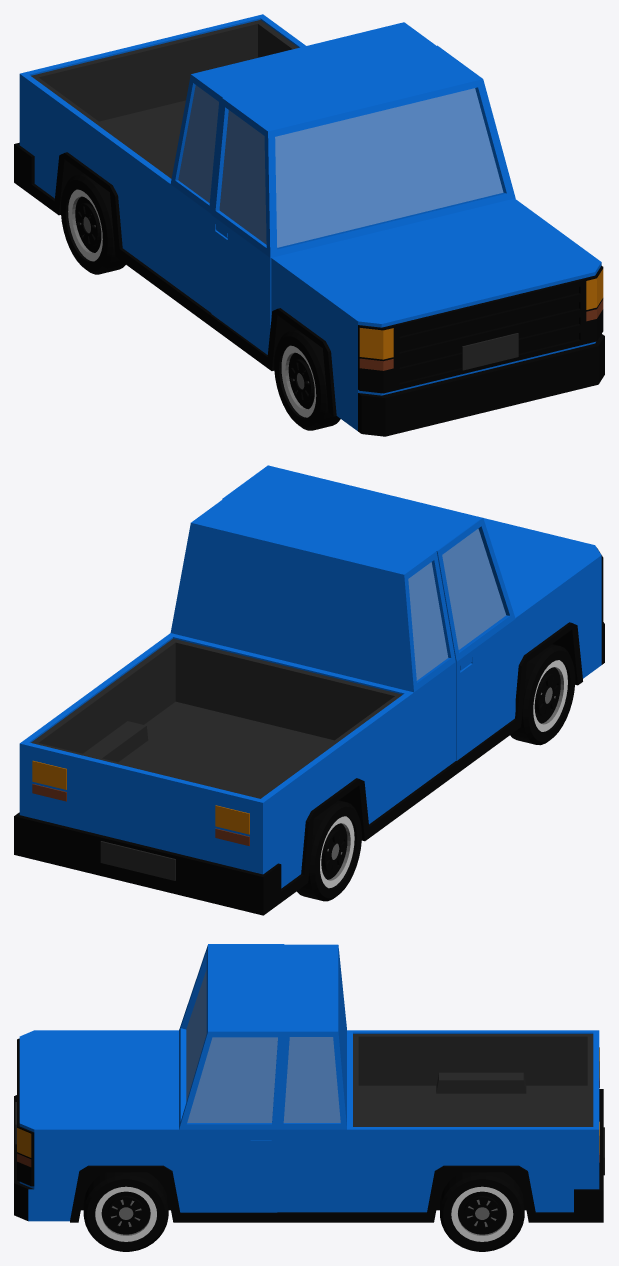
File: FBX Low Poly Car.fbx
3 views of the same model, one above another, from view 1: azimuth 30°, elevation 25°; view 2: azimuth 150°, elevation 25°; view 3: azimuth 270°, elevation 25° (orthographic). The views are drawn at different scales.
Parts seen in each view (by area): view 1: CAR MODEL, TIRES 2, TIRES 1; view 2: CAR MODEL, TIRES 1, TIRES 2; view 3: CAR MODEL, TIRES 1, TIRES 2.
Part boxes in pixels (left/top/right/bottom): CAR MODEL: left=14, top=14, right=604, bottom=436; TIRES 2: left=61, top=173, right=125, bottom=274; TIRES 1: left=274, top=329, right=340, bottom=430; CAR MODEL: left=14, top=465, right=604, bottom=915; TIRES 1: left=510, top=644, right=575, bottom=745; TIRES 2: left=297, top=800, right=361, bottom=901; CAR MODEL: left=14, top=944, right=604, bottom=1222; TIRES 1: left=83, top=1172, right=168, bottom=1251; TIRES 2: left=440, top=1172, right=524, bottom=1251.
Size of the model in its own units: 84.6 by 81.29 by 204.
